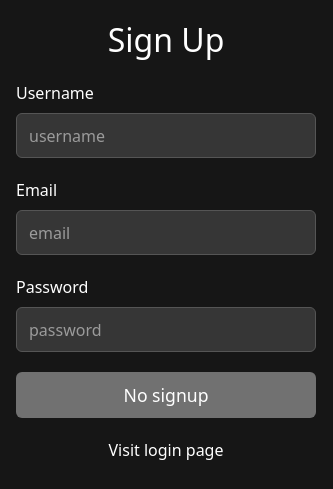
Test: SignUpPage › displays error message if signup fails
Type "testuser" into the field labelled "Username" at (166, 136), box [16,113,316,158]
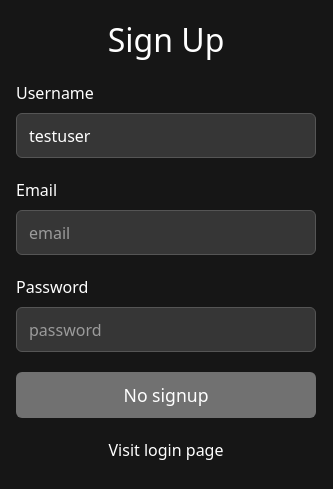
Type "test@test.com" into the field labelled "Email" at (166, 233), box [16,210,316,255]
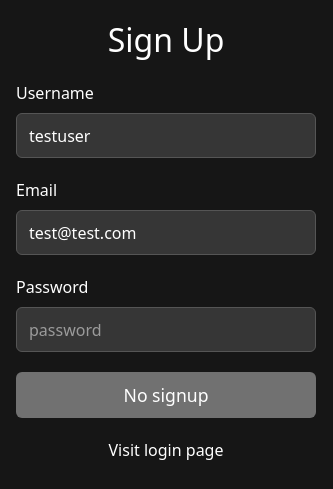
Type "Password1!" into the password field labelled "Password" at (166, 330), box [16,307,316,352]
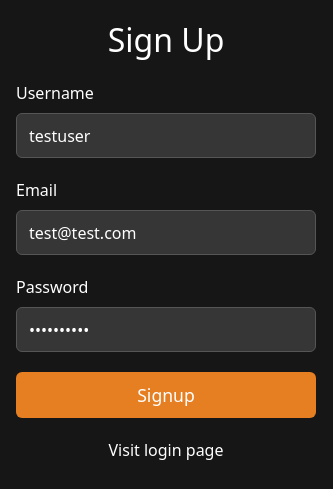
Click the button at (166, 395), box [16,372,316,418]
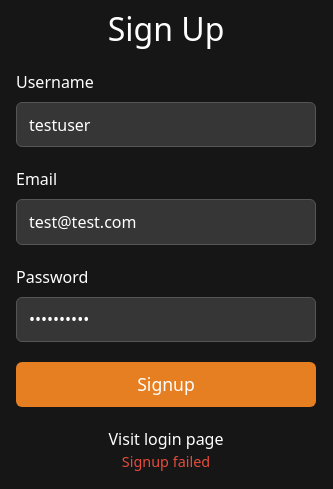
Now the text "Signup failed" is shown, box [122,451,210,473]
